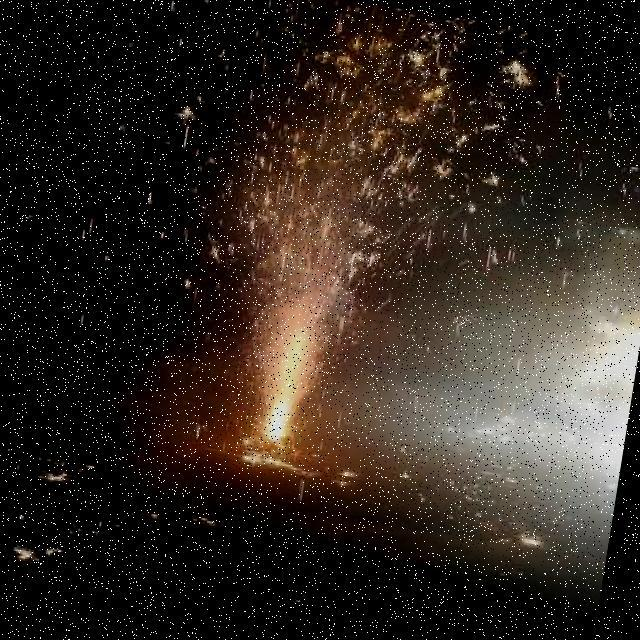Fire: (224, 309, 340, 458)
